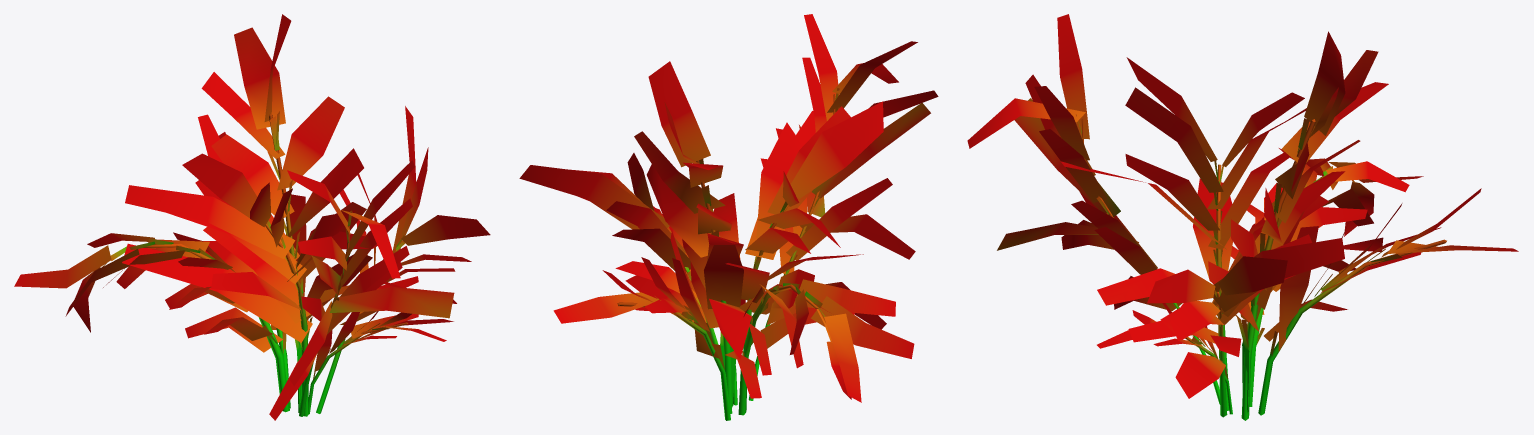
Rendered from Var2_LOD2.fbx.
The picture shows the model from 3 angles, left to right: view 1: azimuth 30°, elevation 25°; view 2: azimuth 150°, elevation 25°; view 3: azimuth 270°, elevation 25°; orthographic projection. The views are drawn at different scales.
Parts seen in each view (by area): view 1: _940c_Var2_LOD2; view 2: _940c_Var2_LOD2; view 3: _940c_Var2_LOD2.
Boxes of the visible parts, <box> form: _940c_Var2_LOD2: <box>14,14,490,420</box>; _940c_Var2_LOD2: <box>519,14,938,420</box>; _940c_Var2_LOD2: <box>967,14,1518,420</box>.
Size of the model in its own units: 215 by 206 by 259.
